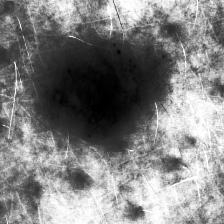Benign Marking or Mole: (41, 43, 179, 138)
